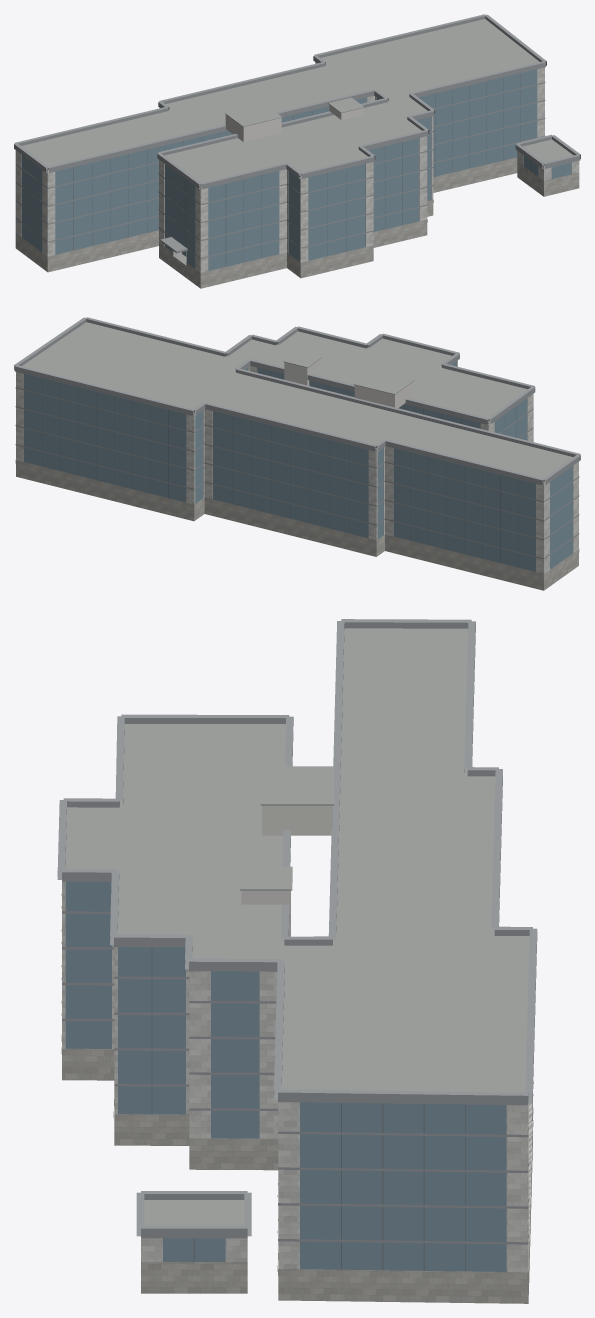
3 views of the same model, one above another, from view 1: azimuth 30°, elevation 25°; view 2: azimuth 150°, elevation 25°; view 3: azimuth 270°, elevation 25° (orthographic). The views are drawn at different scales.
Parts seen in each view (by area): view 1: animalCenterE18__glass, animalCenterE18__roof, animalCenterE18__trim, animalCenterE18__base, animalCenterE18__wall, animalCenterE18__frame, animalCenterE18__wall2; view 2: animalCenterE18__glass, animalCenterE18__roof, animalCenterE18__trim, animalCenterE18__base, animalCenterE18__wall, animalCenterE18__frame, animalCenterE18__wall2; view 3: animalCenterE18__roof, animalCenterE18__glass, animalCenterE18__trim, animalCenterE18__base, animalCenterE18__wall, animalCenterE18__wall2, animalCenterE18__frame.
Boxes of the visible parts, x1=… form: animalCenterE18__glass: x1=21, y1=69, x2=571, y2=270; animalCenterE18__roof: x1=21, y1=19, x2=573, y2=265; animalCenterE18__trim: x1=14, y1=14, x2=580, y2=258; animalCenterE18__base: x1=15, y1=157, x2=579, y2=288; animalCenterE18__wall: x1=15, y1=62, x2=579, y2=275; animalCenterE18__frame: x1=73, y1=73, x2=530, y2=266; animalCenterE18__wall2: x1=225, y1=105, x2=363, y2=141; animalCenterE18__glass: x1=24, y1=361, x2=572, y2=571; animalCenterE18__roof: x1=22, y1=322, x2=572, y2=482; animalCenterE18__trim: x1=14, y1=317, x2=580, y2=559; animalCenterE18__base: x1=15, y1=460, x2=579, y2=590; animalCenterE18__wall: x1=16, y1=360, x2=578, y2=577; animalCenterE18__frame: x1=42, y1=371, x2=518, y2=567; animalCenterE18__wall2: x1=284, y1=359, x2=413, y2=407; animalCenterE18__roof: x1=65, y1=628, x2=529, y2=1225; animalCenterE18__glass: x1=65, y1=881, x2=531, y2=1271; animalCenterE18__trim: x1=57, y1=619, x2=537, y2=1244; animalCenterE18__base: x1=61, y1=1035, x2=533, y2=1303; animalCenterE18__wall: x1=62, y1=881, x2=532, y2=1272; animalCenterE18__wall2: x1=241, y1=805, x2=332, y2=936; animalCenterE18__frame: x1=151, y1=947, x2=465, y2=1271.
Bounding box in the file's own units: 103 × 23.7 × 43.71.
Materials: 9 (2 with a texture image).
